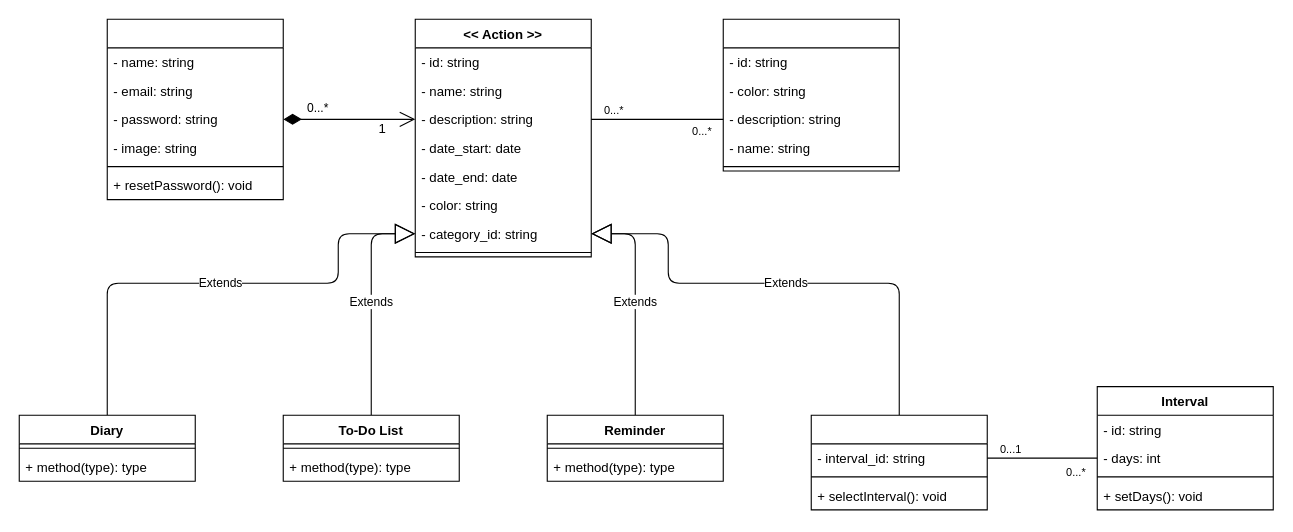
Image size: 1293x532. Some labels were removed from this diagram. Each missing label, with the box of its shape:
Category: (722, 18, 899, 171)
Improvement: (810, 414, 987, 510)
User: (106, 18, 283, 200)
